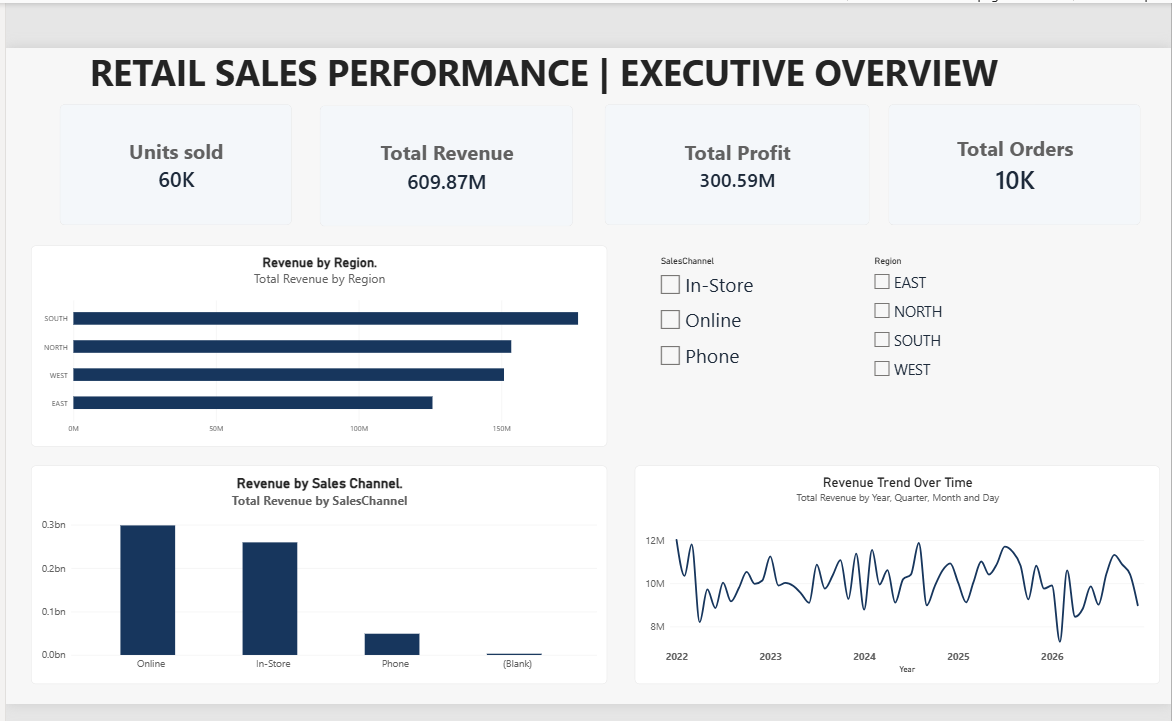

This screenshot's page, from the dashboard's own definition file:
{"tool":"powerbi","page":{"name":"Executive Overview","canvas":[1920,1080],"ordinal":0},"visuals":[{"type":"cardVisual","fields":{"Data":["Sum(order_items.Quantity)"]},"box":[88.5,92.6,382.8,199.7],"z":0},{"type":"cardVisual","fields":{"Data":["order_items.Total Revenue"]},"box":[516.6,94.7,417.8,199.7],"z":1000},{"type":"cardVisual","fields":{"Data":["order_items.Total Profit"]},"box":[985.9,92.6,436.4,199.7],"z":2000},{"type":"cardVisual","fields":{"Data":["order_items.Total Orders"]},"box":[1453.2,92.6,415.8,199.7],"z":3000},{"type":"lineChart","title":"Revenue Trend Over Time","fields":{"Category":["orders.MonthStart.Variation.Date Hierarchy.Year","orders.MonthStart.Variation.Date Hierarchy.Quarter","orders.MonthStart.Variation.Date Hierarchy.Month","orders.MonthStart.Variation.Date Hierarchy.Day"],"Y":["order_items.Total Revenue"]},"box":[1035.3,687.5,864.5,360.2],"z":4000},{"type":"clusteredBarChart","title":"Revenue by Region.","fields":{"Category":["orders.Region"],"Y":["order_items.Total Revenue"]},"box":[41.2,325.2,948.9,331.4],"z":5000},{"type":"clusteredColumnChart","title":"Revenue by Sales Channel.","fields":{"Category":["orders.SalesChannel"],"Y":["order_items.Total Revenue"]},"box":[41.2,687.5,948.9,360.2],"z":6000},{"type":"slicer","fields":{"Values":["orders.Region"]},"box":[1422.3,341.7,271.7,222.3],"z":7000},{"type":"slicer","fields":{"Values":["orders.SalesChannel"]},"box":[1070.3,341.7,224.4,314.9],"z":8000},{"type":"textbox","box":[137.9,0,1523.2,92.6],"z":9000}]}

Visuals, with their boxes on the page's 1920x1080 design canvas (x1, y1, x2, y2). These are canvas units, not pixel positions in the 1172x721 screenshot, which may show the page scaled, cropped or inside an application window:
cardVisual - Sum(order_items.Quantity): bbox=[88, 93, 471, 292]
cardVisual - order_items.Total Revenue: bbox=[517, 95, 934, 294]
cardVisual - order_items.Total Profit: bbox=[986, 93, 1422, 292]
cardVisual - order_items.Total Orders: bbox=[1453, 93, 1869, 292]
"Revenue Trend Over Time" lineChart: bbox=[1035, 688, 1900, 1048]
"Revenue by Region." clusteredBarChart: bbox=[41, 325, 990, 657]
"Revenue by Sales Channel." clusteredColumnChart: bbox=[41, 688, 990, 1048]
slicer - orders.Region: bbox=[1422, 342, 1694, 564]
slicer - orders.SalesChannel: bbox=[1070, 342, 1295, 657]
textbox: bbox=[138, 0, 1661, 93]
